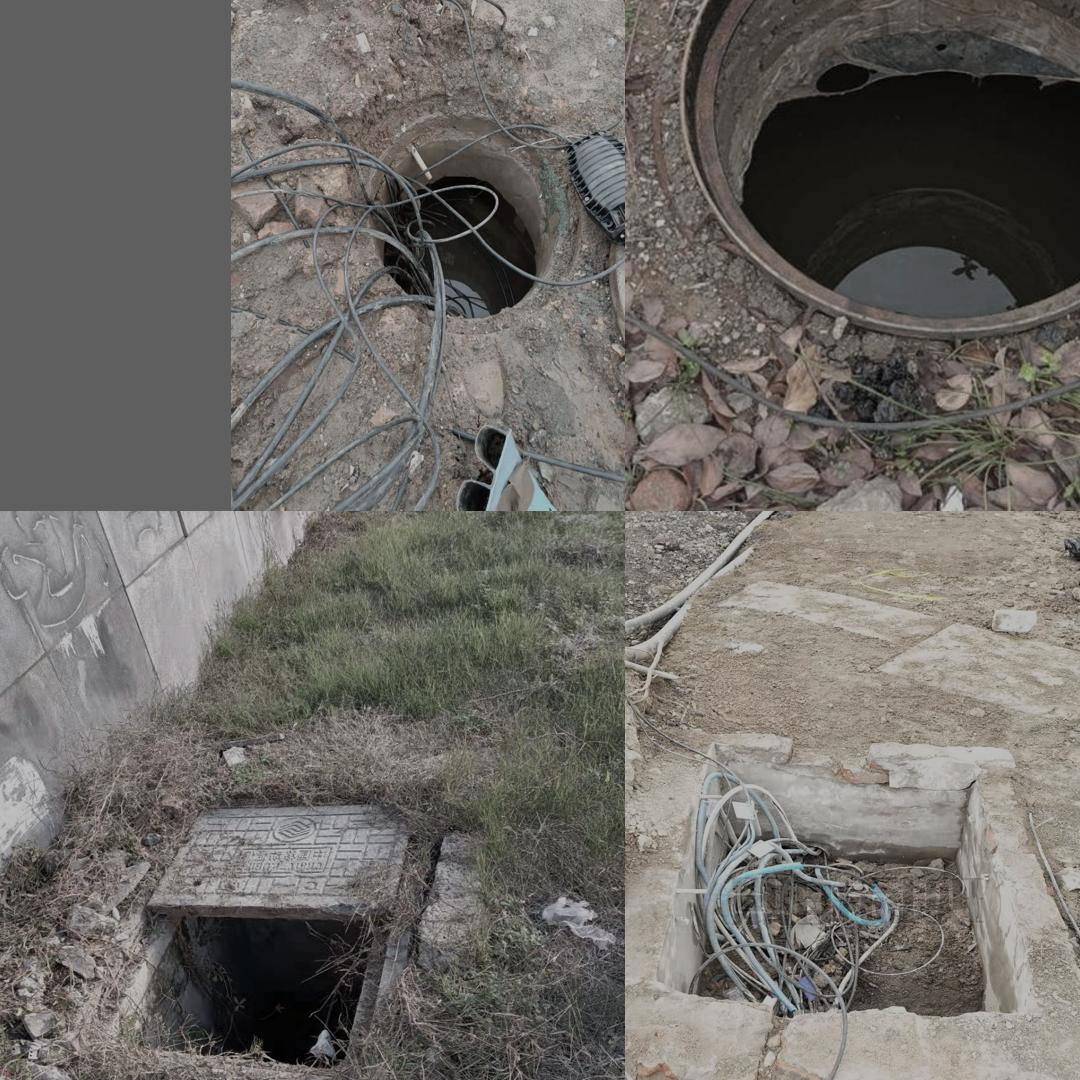lose: (671, 0, 1080, 344), (641, 755, 1037, 1020), (117, 781, 446, 1054), (355, 107, 578, 326)
